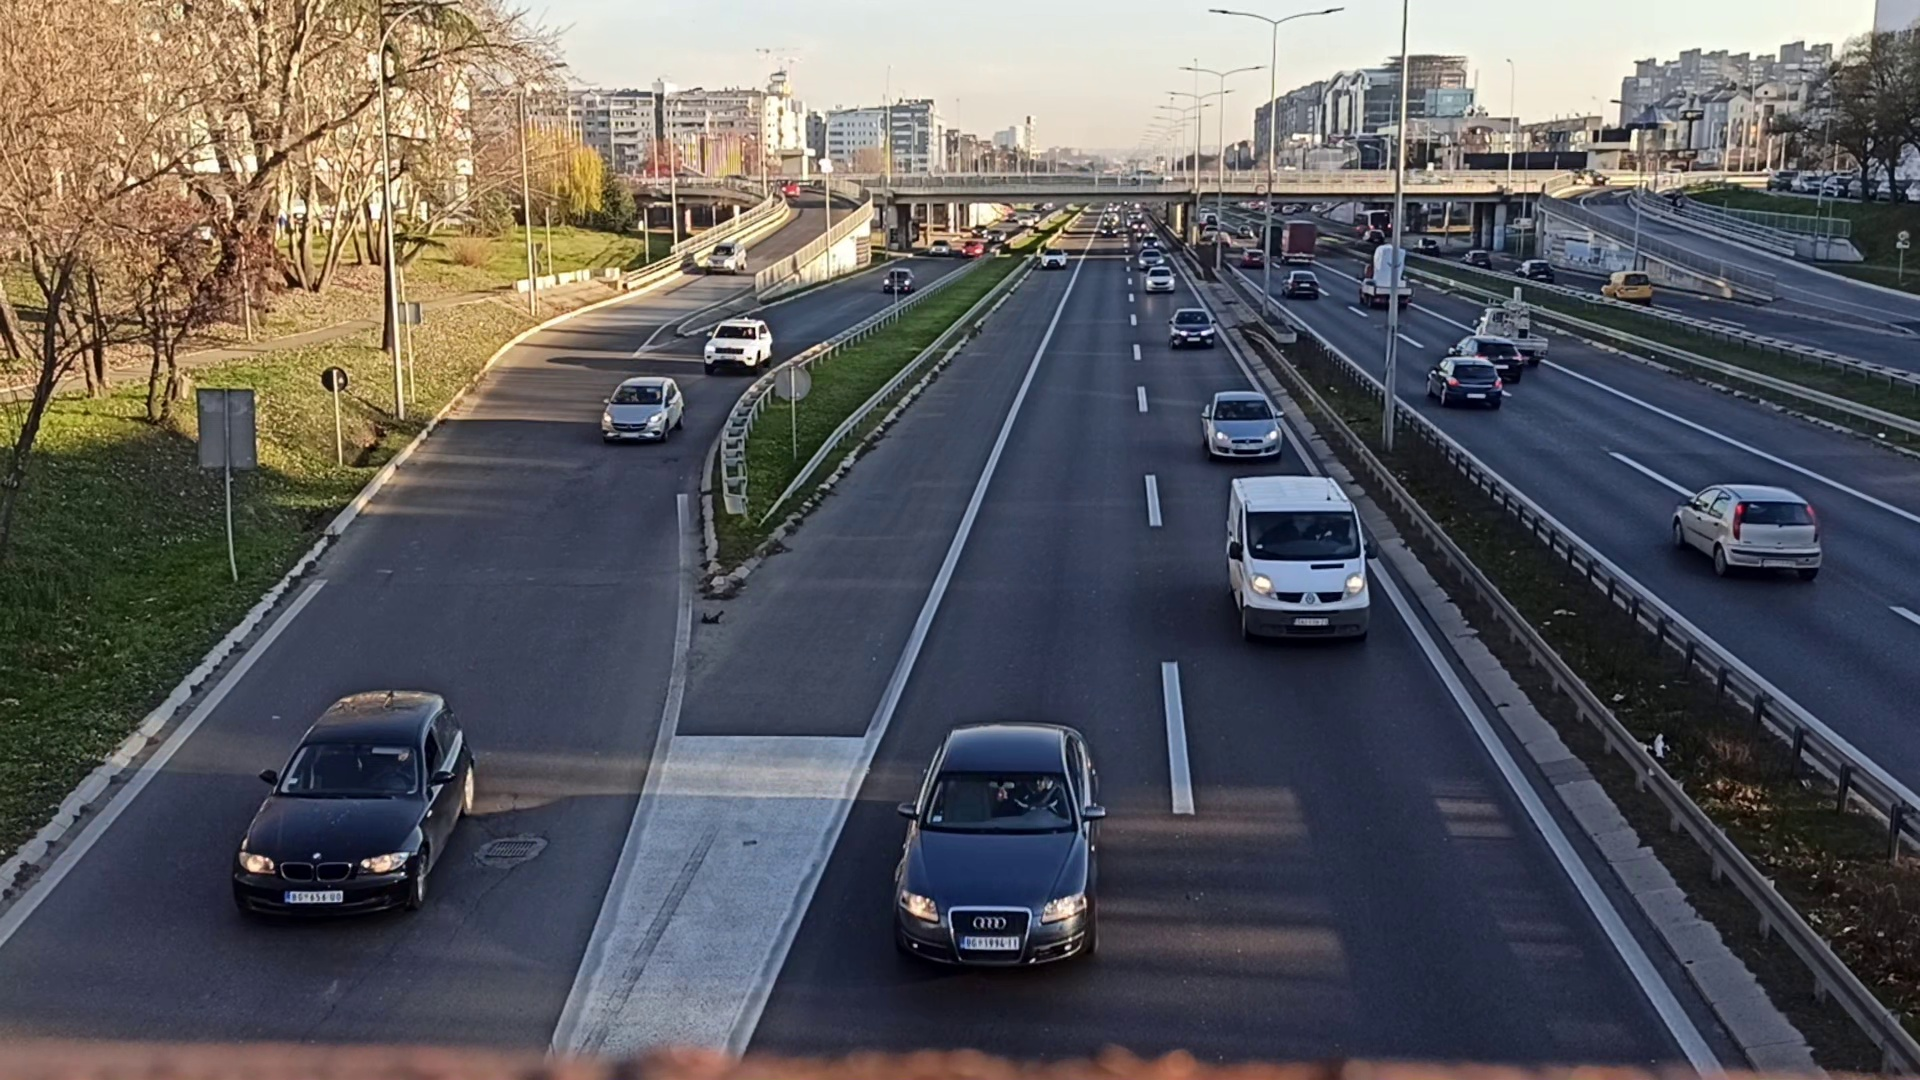car: (235, 688, 487, 926), (895, 715, 1109, 980), (1673, 480, 1821, 580), (589, 369, 684, 447), (1203, 390, 1282, 463), (698, 318, 778, 375), (1424, 357, 1498, 409), (1453, 334, 1520, 384), (1168, 305, 1216, 349), (1284, 274, 1319, 301)
van: (1220, 472, 1377, 653)
